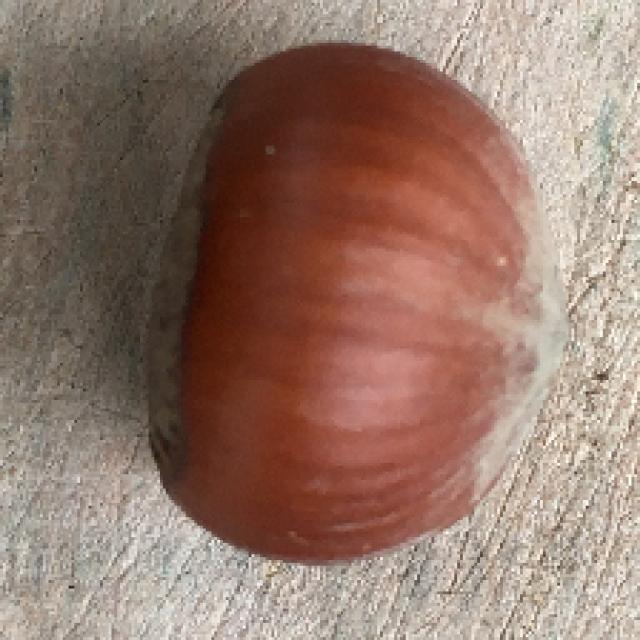qualityHazelnut: (140, 38, 571, 566)
